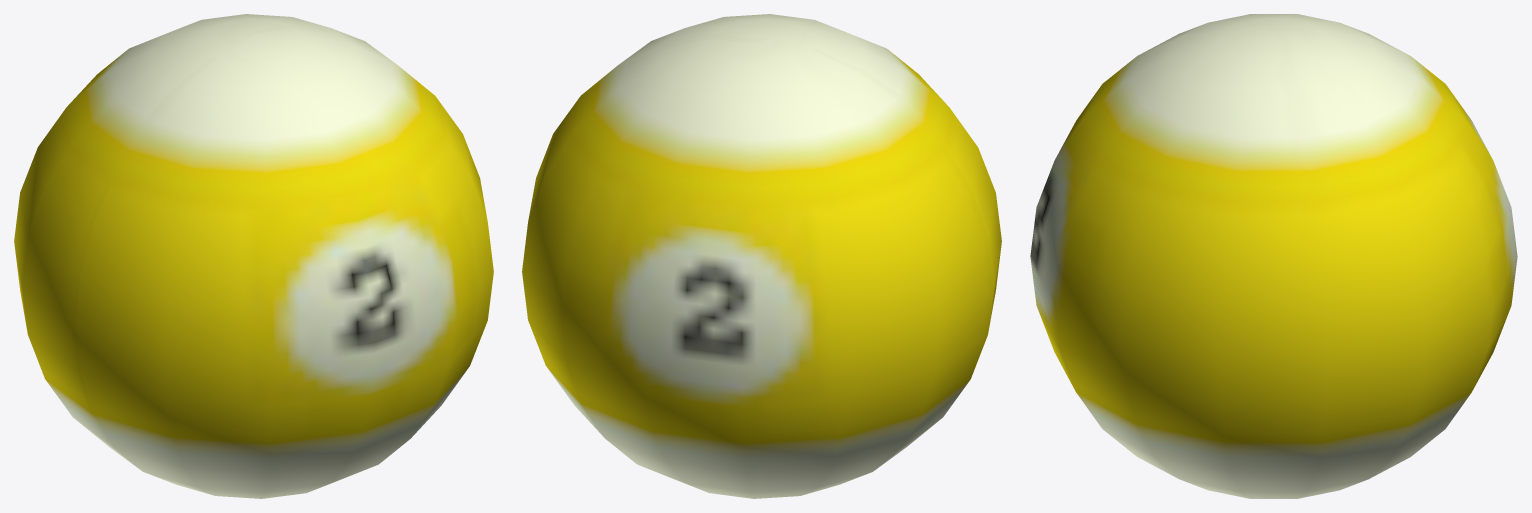
Rendered from ball2.fbx.
3 renders of one model, left to right at view 1: azimuth 30°, elevation 25°; view 2: azimuth 150°, elevation 25°; view 3: azimuth 270°, elevation 25°, orthographic.
Parts seen in each view (by area): view 1: pSphere3; view 2: pSphere3; view 3: pSphere3.
Boxes of the visible parts, x1,y1,x2,y2 form: pSphere3: [14, 14, 493, 498]; pSphere3: [522, 14, 1001, 498]; pSphere3: [1030, 14, 1517, 498].
Bounding box in the file's own units: 0.3779 × 0.3875 × 0.3875.
